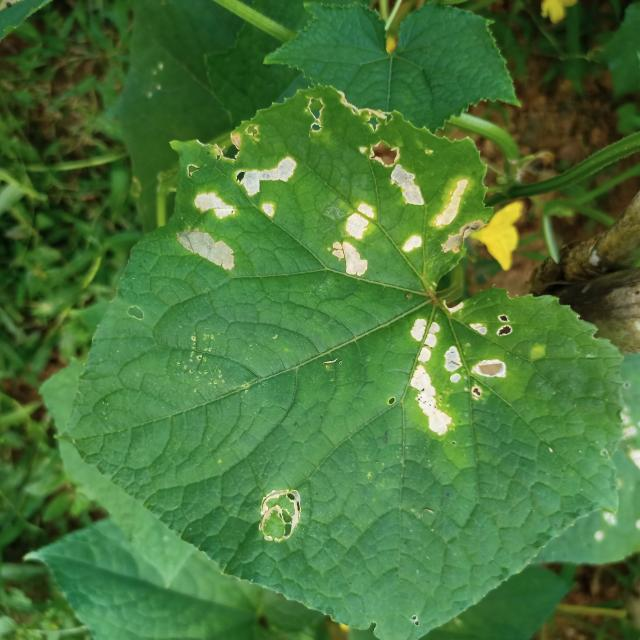disease_cucumber: (400, 293, 512, 440), (387, 150, 486, 259), (175, 184, 240, 274), (329, 197, 382, 277), (241, 154, 300, 220)
